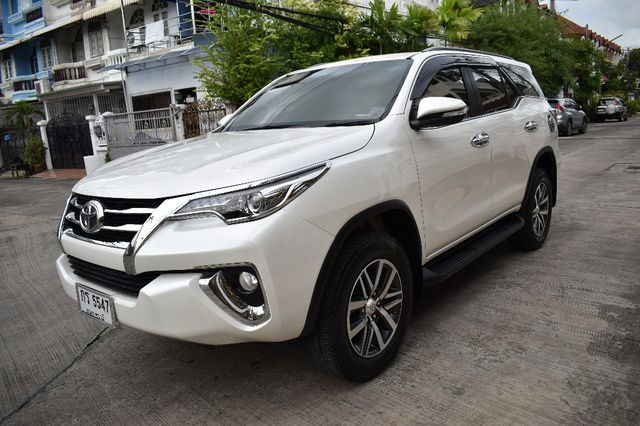pickup: (54, 44, 562, 381)
